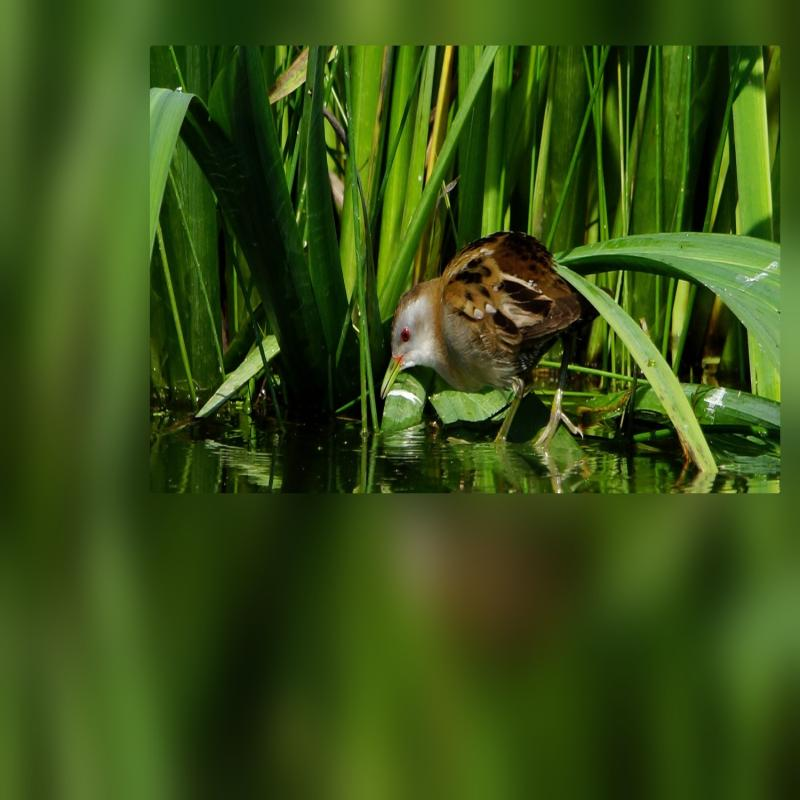little crake: (375, 228, 604, 446)
